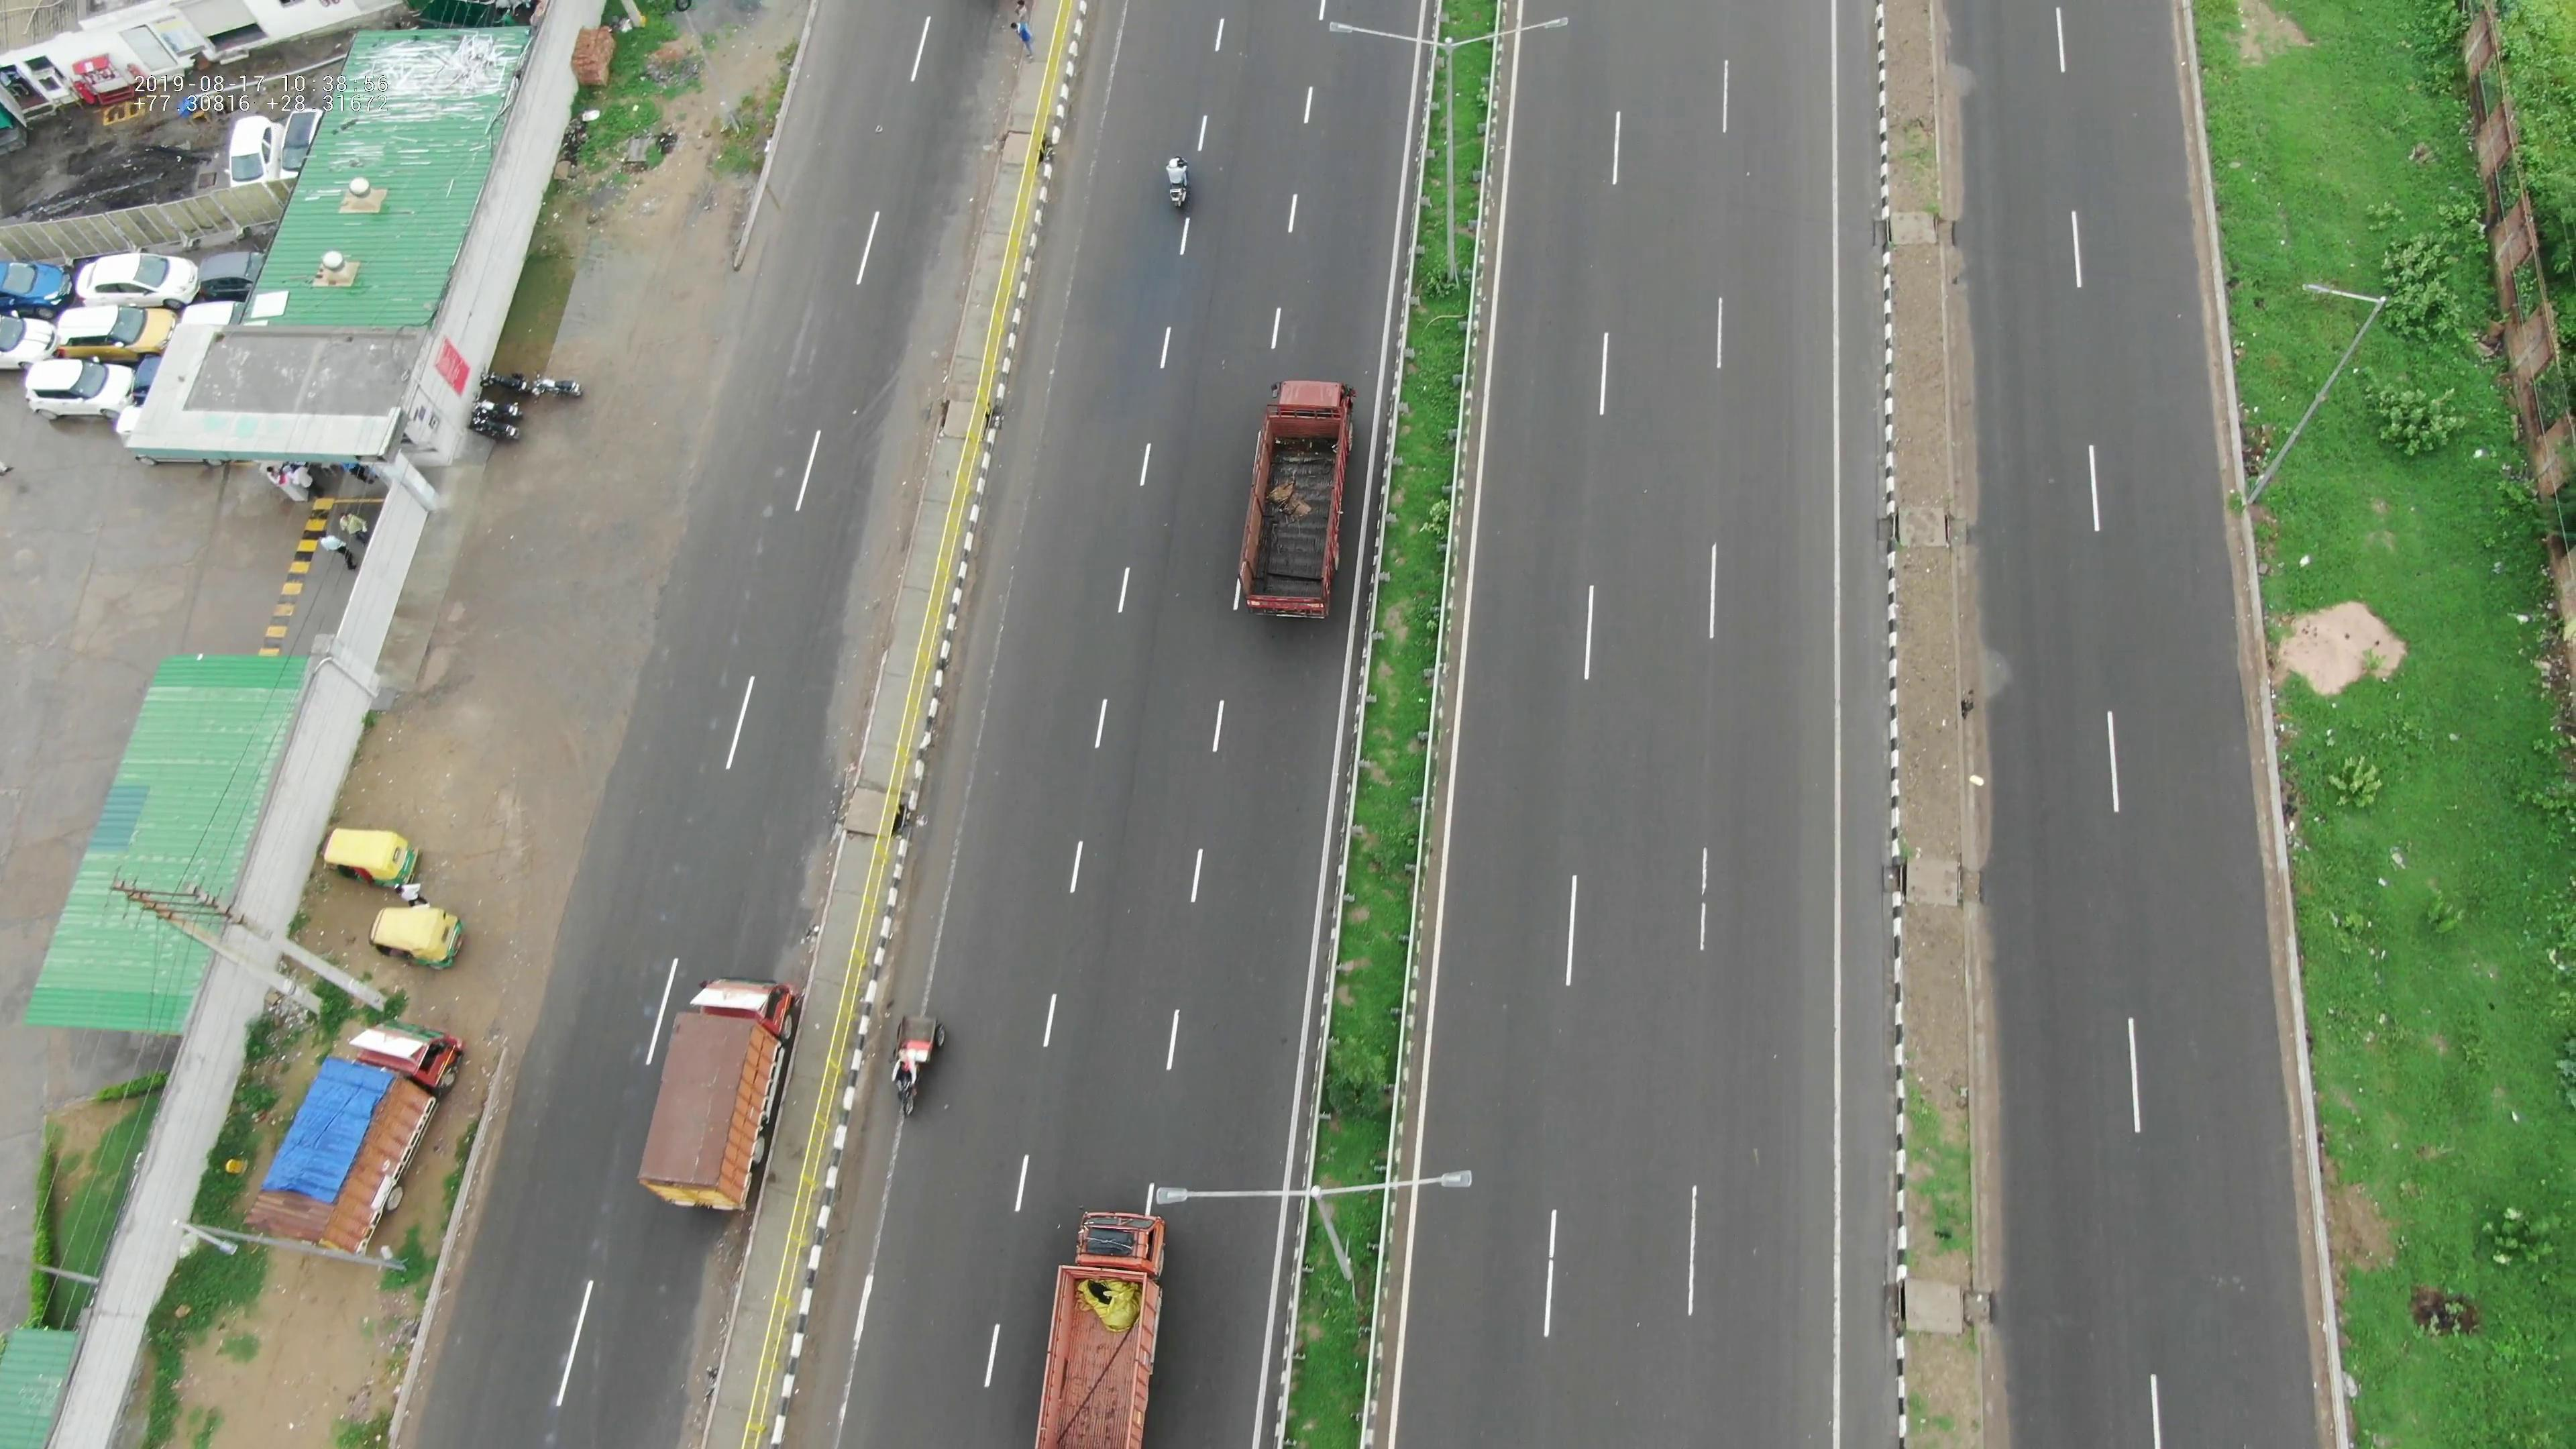Potholes: (718, 441, 786, 633), (529, 1263, 607, 1426), (662, 667, 743, 821), (619, 874, 688, 1053), (763, 278, 849, 377)
